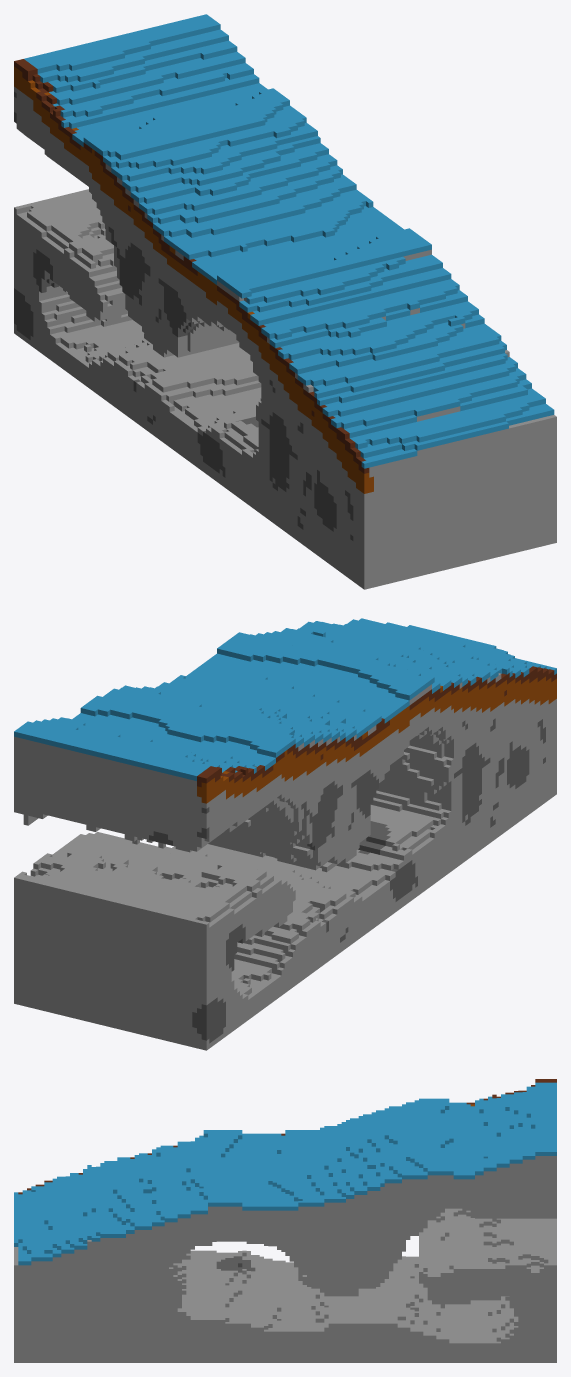
Rendered from level 1 - Part 4.obj.
3 views of the same model, one above another, from view 1: azimuth 30°, elevation 25°; view 2: azimuth 150°, elevation 25°; view 3: azimuth 270°, elevation 25° (orthographic). The views are drawn at different scales.
Bounding box in the file's own units: 40 × 54 × 126.
Materials: 1 (1 with a texture image).
